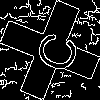C: (25, 25, 81, 76)
